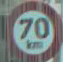Speed limit: (7, 2, 57, 55)
